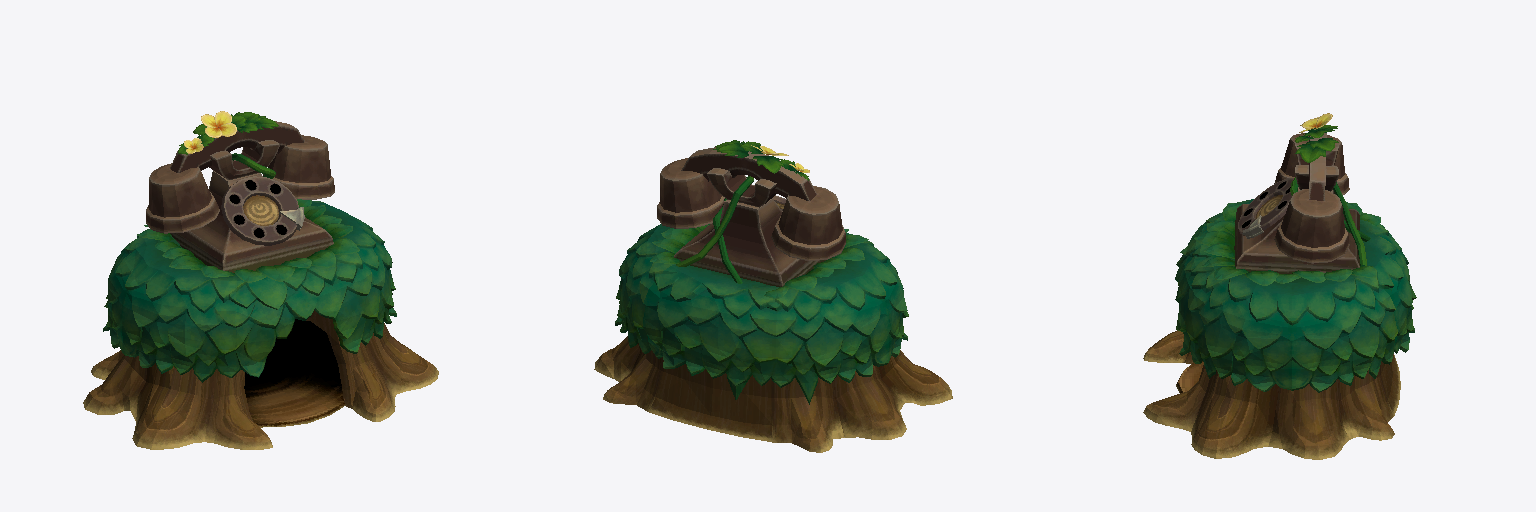
The picture shows the model from 3 angles: view 1: azimuth 30°, elevation 25°; view 2: azimuth 150°, elevation 25°; view 3: azimuth 270°, elevation 25°; orthographic projection.
Parts seen in each view (by area): view 1: BdTelMebe__MI_BdTelMebe_01; view 2: BdTelMebe__MI_BdTelMebe_01; view 3: BdTelMebe__MI_BdTelMebe_01.
Boxes of the visible parts, x1=… form: BdTelMebe__MI_BdTelMebe_01: x1=83, y1=111, x2=438, y2=449; BdTelMebe__MI_BdTelMebe_01: x1=594, y1=140, x2=952, y2=452; BdTelMebe__MI_BdTelMebe_01: x1=1143, y1=113, x2=1416, y2=459.
Bounding box in the file's own units: 1.77 × 1.43 × 1.37.
Materials: 1 (1 with a texture image).